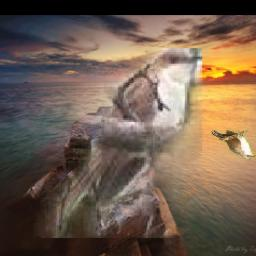Cuckoo: (34, 49, 203, 239), (210, 131, 255, 161)
